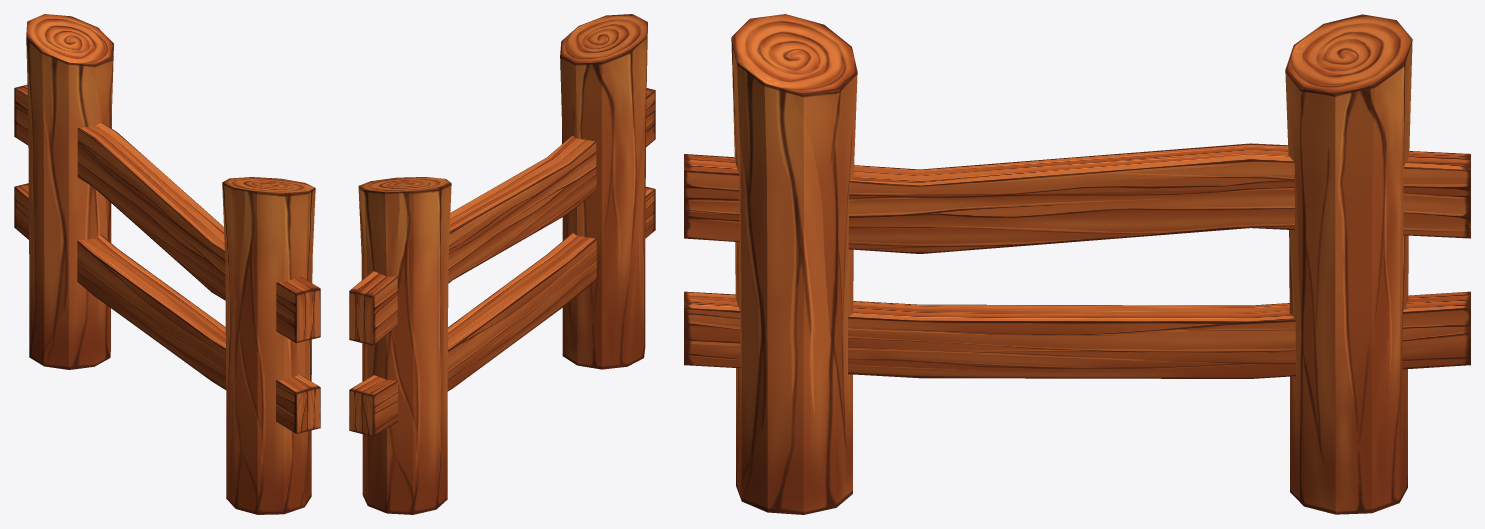
The model's file is fence2.fbx.
The picture shows the model from 3 angles, left to right: view 1: azimuth 30°, elevation 25°; view 2: azimuth 150°, elevation 25°; view 3: azimuth 270°, elevation 25°; orthographic projection. The views are drawn at different scales.
Parts seen in each view (by area): view 1: pCylinder3; view 2: pCylinder3; view 3: pCylinder3.
Part boxes in pixels (<box>): pCylinder3: <box>14,14,320,514</box>; pCylinder3: <box>349,14,655,514</box>; pCylinder3: <box>684,14,1470,514</box>.
Bounding box in the file's own units: 91.87 × 360 × 568.
